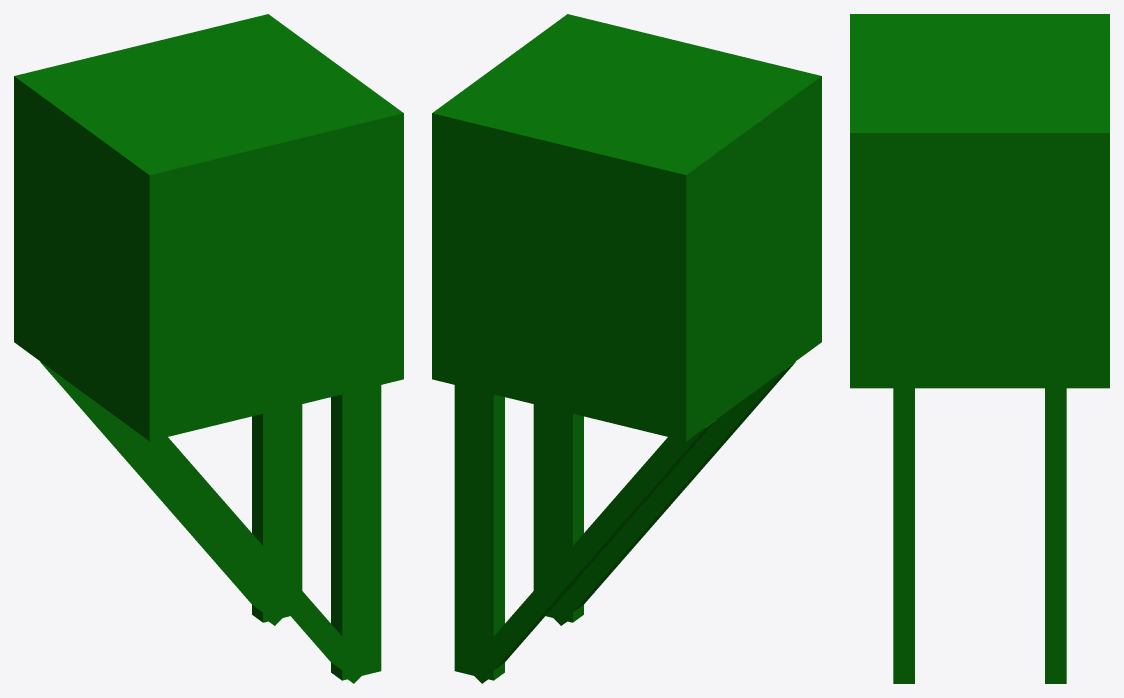
The model's file is Image-1711348064001-2281443602160_42-HC50.fbx.
3 renders of one model, left to right at view 1: azimuth 30°, elevation 25°; view 2: azimuth 150°, elevation 25°; view 3: azimuth 270°, elevation 25°, orthographic. The views are drawn at different scales.
Visible parts, largest first — view 1: BOX 1 of EQUIPMENT /42-HC50, BOX 3 of EQUIPMENT /42-HC50, BOX 2 of EQUIPMENT /42-HC50, BOX 5 of EQUIPMENT /42-HC50, BOX 4 of EQUIPMENT /42-HC50; view 2: BOX 1 of EQUIPMENT /42-HC50, BOX 2 of EQUIPMENT /42-HC50, BOX 3 of EQUIPMENT /42-HC50, BOX 4 of EQUIPMENT /42-HC50, BOX 5 of EQUIPMENT /42-HC50; view 3: BOX 1 of EQUIPMENT /42-HC50, BOX 2 of EQUIPMENT /42-HC50, BOX 3 of EQUIPMENT /42-HC50.
Boxes of the visible parts, box(x1,y1,x2,y2) form: BOX 1 of EQUIPMENT /42-HC50: box(14, 14, 403, 441); BOX 3 of EQUIPMENT /42-HC50: box(331, 385, 381, 680); BOX 2 of EQUIPMENT /42-HC50: box(252, 404, 302, 622); BOX 5 of EQUIPMENT /42-HC50: box(119, 419, 368, 683); BOX 4 of EQUIPMENT /42-HC50: box(40, 361, 285, 625); BOX 1 of EQUIPMENT /42-HC50: box(432, 14, 821, 441); BOX 2 of EQUIPMENT /42-HC50: box(454, 385, 504, 680); BOX 3 of EQUIPMENT /42-HC50: box(533, 404, 583, 622); BOX 4 of EQUIPMENT /42-HC50: box(466, 419, 716, 683); BOX 5 of EQUIPMENT /42-HC50: box(549, 361, 795, 625); BOX 1 of EQUIPMENT /42-HC50: box(850, 14, 1109, 388); BOX 2 of EQUIPMENT /42-HC50: box(1045, 388, 1066, 683); BOX 3 of EQUIPMENT /42-HC50: box(893, 388, 914, 683).
Bounding box in the file's own units: 0.65 × 0.6 × 1.42.
